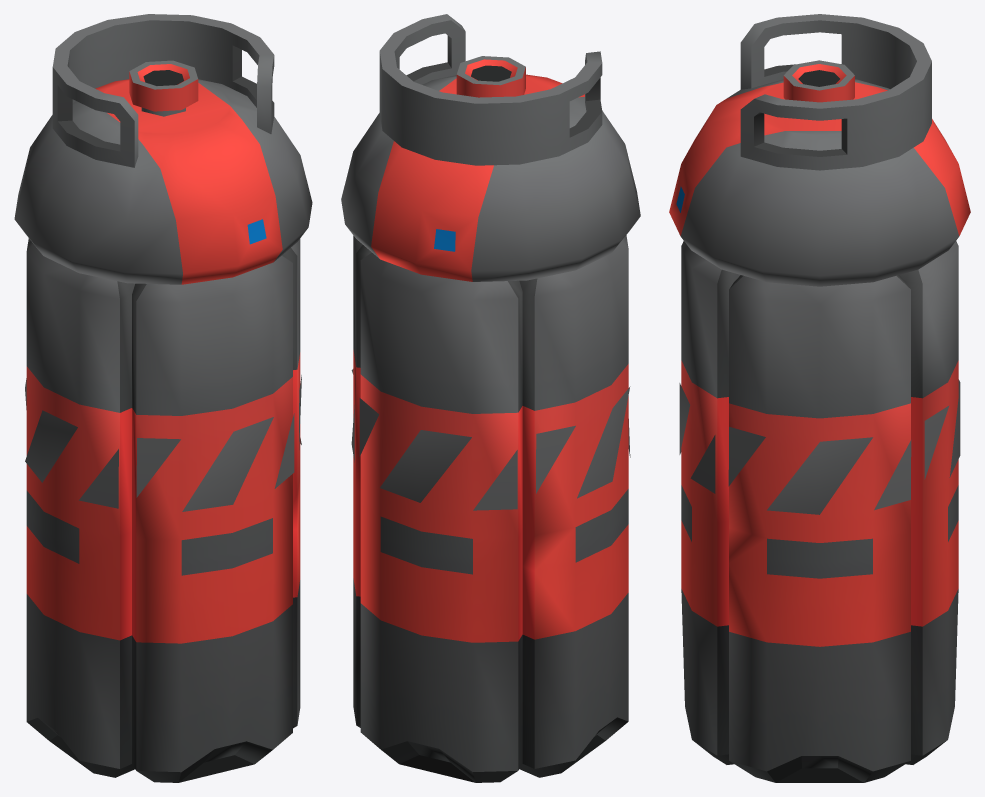
Rendered from Barrel_016.fbx.
3 views of the same model, side by side, from view 1: azimuth 30°, elevation 25°; view 2: azimuth 150°, elevation 25°; view 3: azimuth 270°, elevation 25° (orthographic).
Visible parts, largest first — view 1: Barrel_016; view 2: Barrel_016; view 3: Barrel_016.
Boxes of the visible parts, x1,y1,x2,y2 form: Barrel_016: (14,14,312,782); Barrel_016: (341,14,640,782); Barrel_016: (669,14,970,782).
Bounding box in the file's own units: 53.31 × 53.31 × 132.
